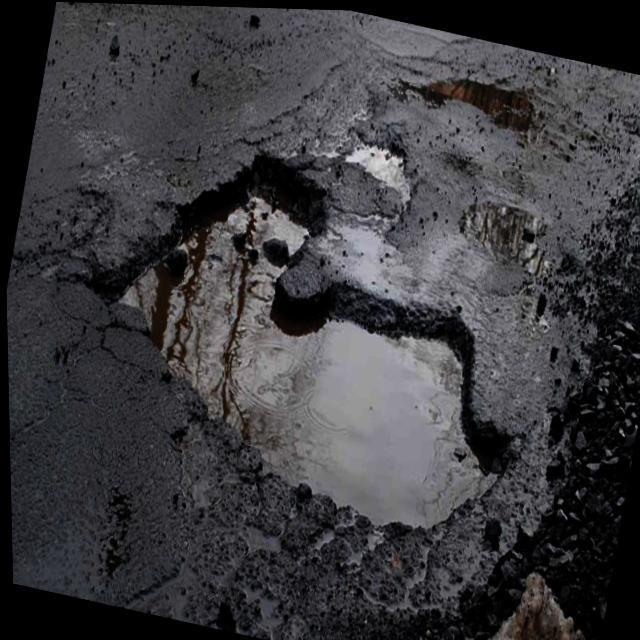Pothole: (86, 154, 510, 539), (346, 134, 411, 203)
